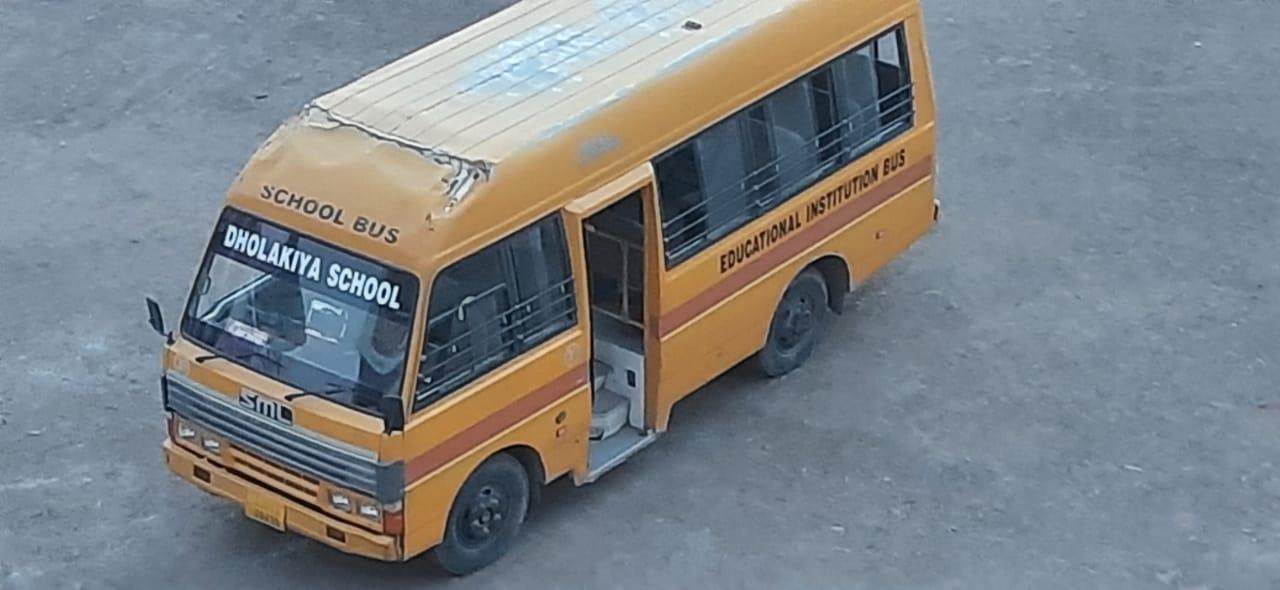Bus: (148, 25, 977, 584)
